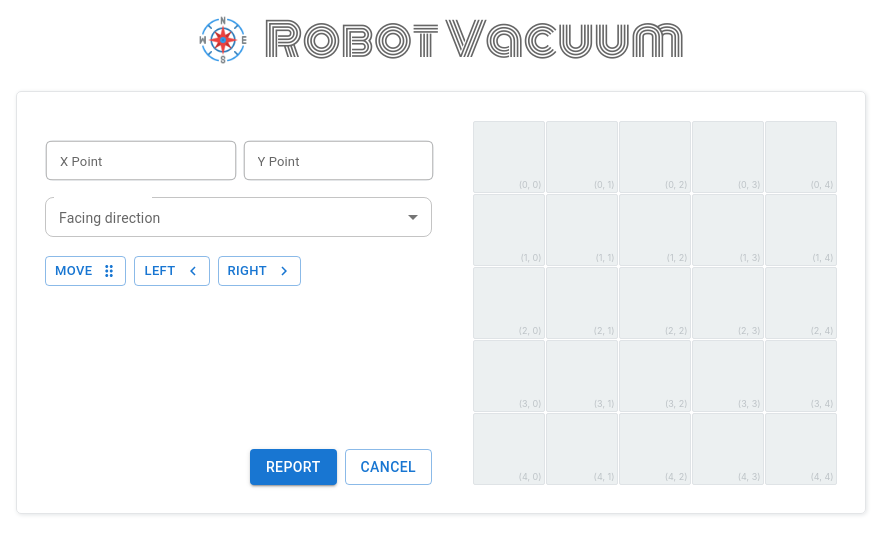
check all basic form validation
Click the button with test id "submit-form".
click(293, 467)  # box x1=250 y1=448 x2=337 y2=485
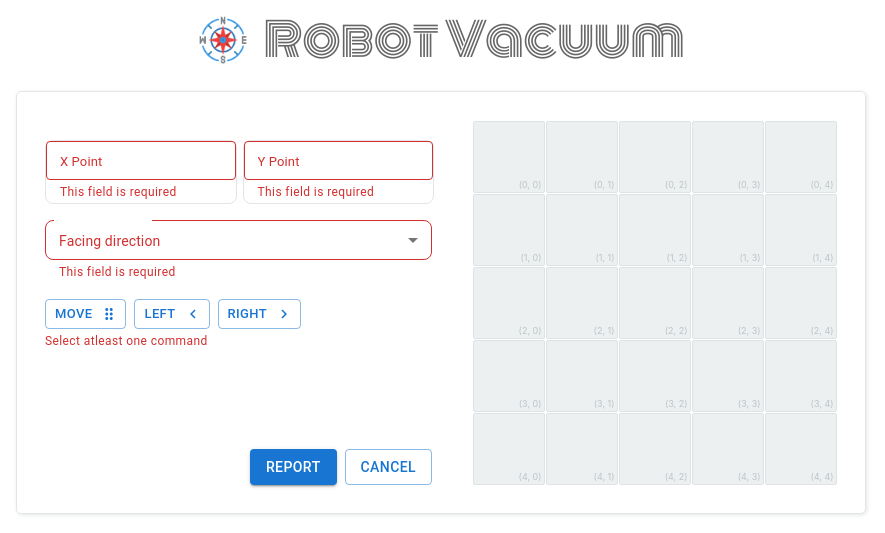
Now the text "This field is required" below "X Point" is shown, box x1=60 y1=185 x2=177 y2=199
Now the text "Select atleast one command" is shown, box x1=45 y1=334 x2=208 y2=348
